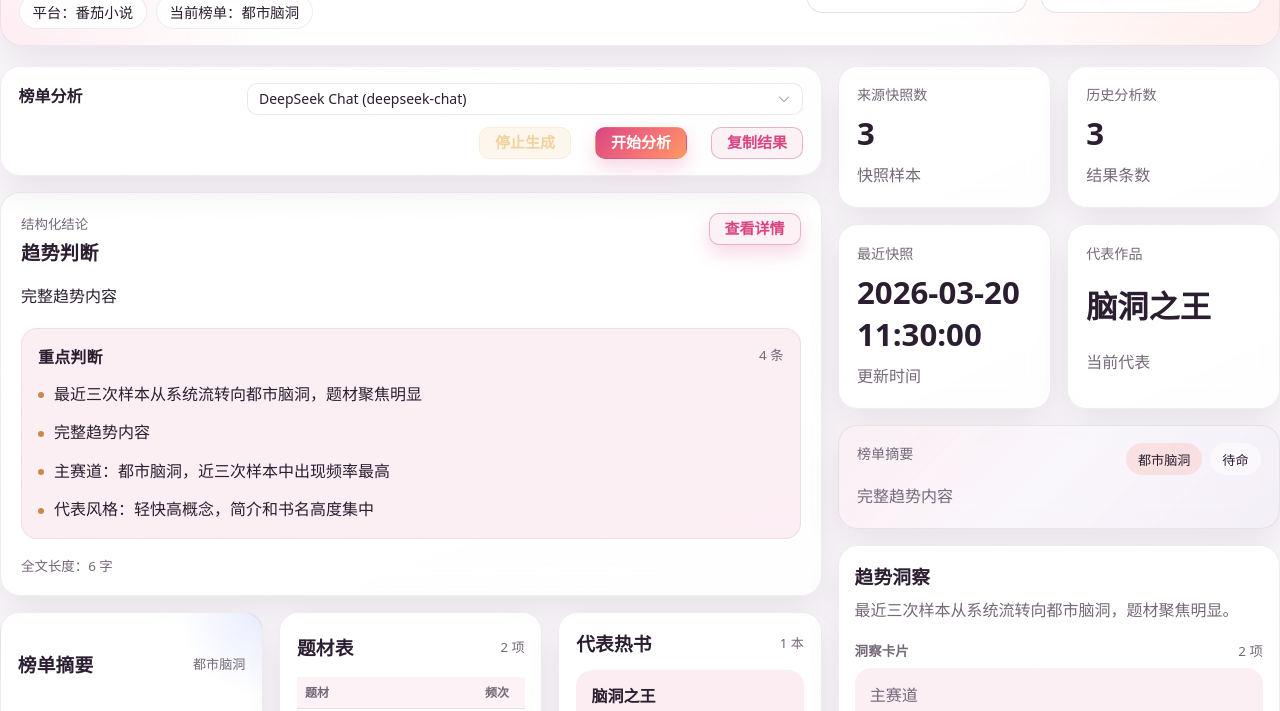
Scenario: TrendView › prefers structured trend sections over raw content after analysis completes
Click the button with test id "analysis-toolbar-rerun".
click(641, 143)  # box x1=595 y1=127 x2=687 y2=159
(page scrolled)
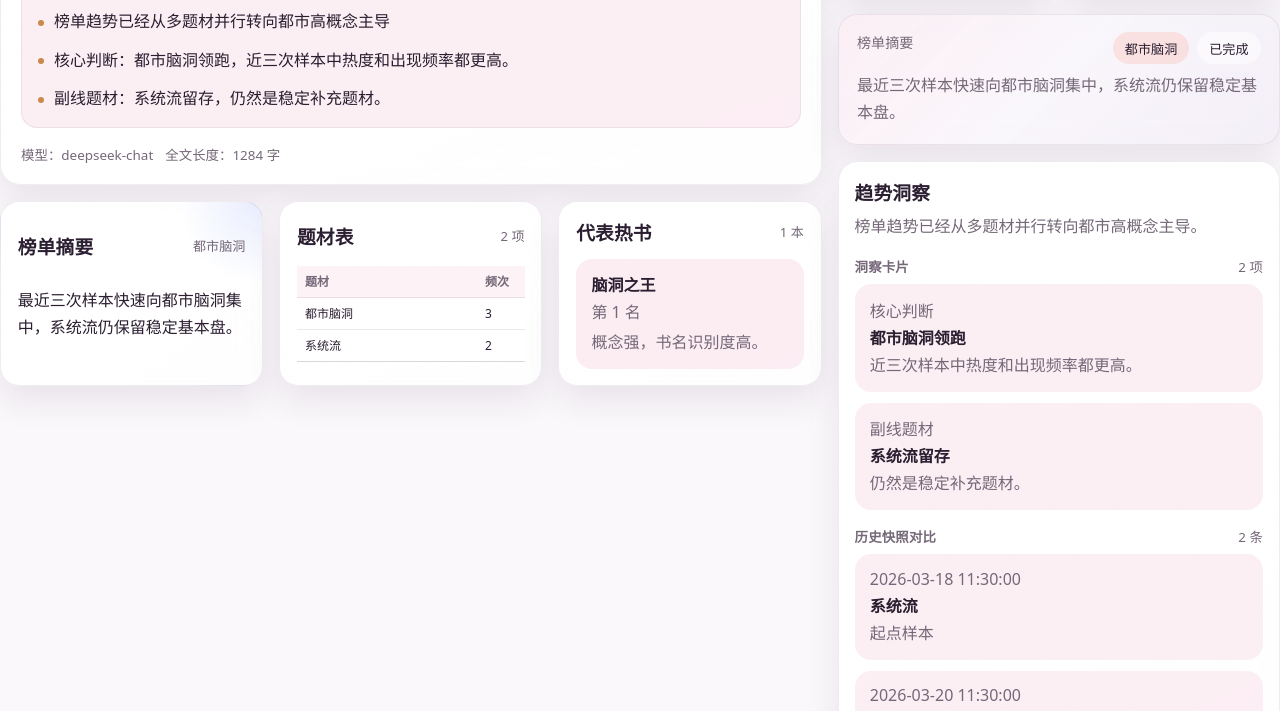
Expected: the element with test id "trend-result-theme-table" shows "持续升温", x1=605 y1=305 x2=653 y2=322
Now the element with test id "trend-result-key-points" shows "都市脑洞领跑", box x1=54 y1=49 x2=518 y2=71
